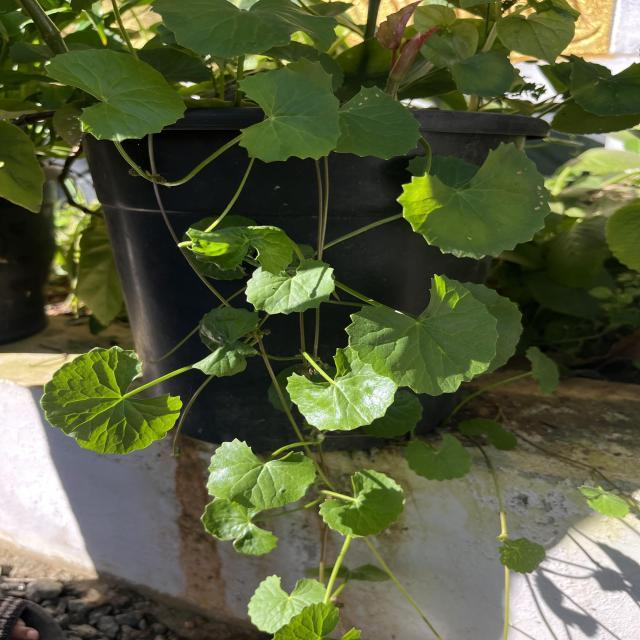Centella asiatica: (342, 271, 500, 398), (394, 138, 554, 263), (37, 342, 185, 457), (41, 46, 190, 146), (146, 0, 340, 59), (234, 64, 344, 165), (283, 343, 400, 434), (203, 436, 320, 510), (329, 83, 424, 162), (243, 254, 337, 316)
